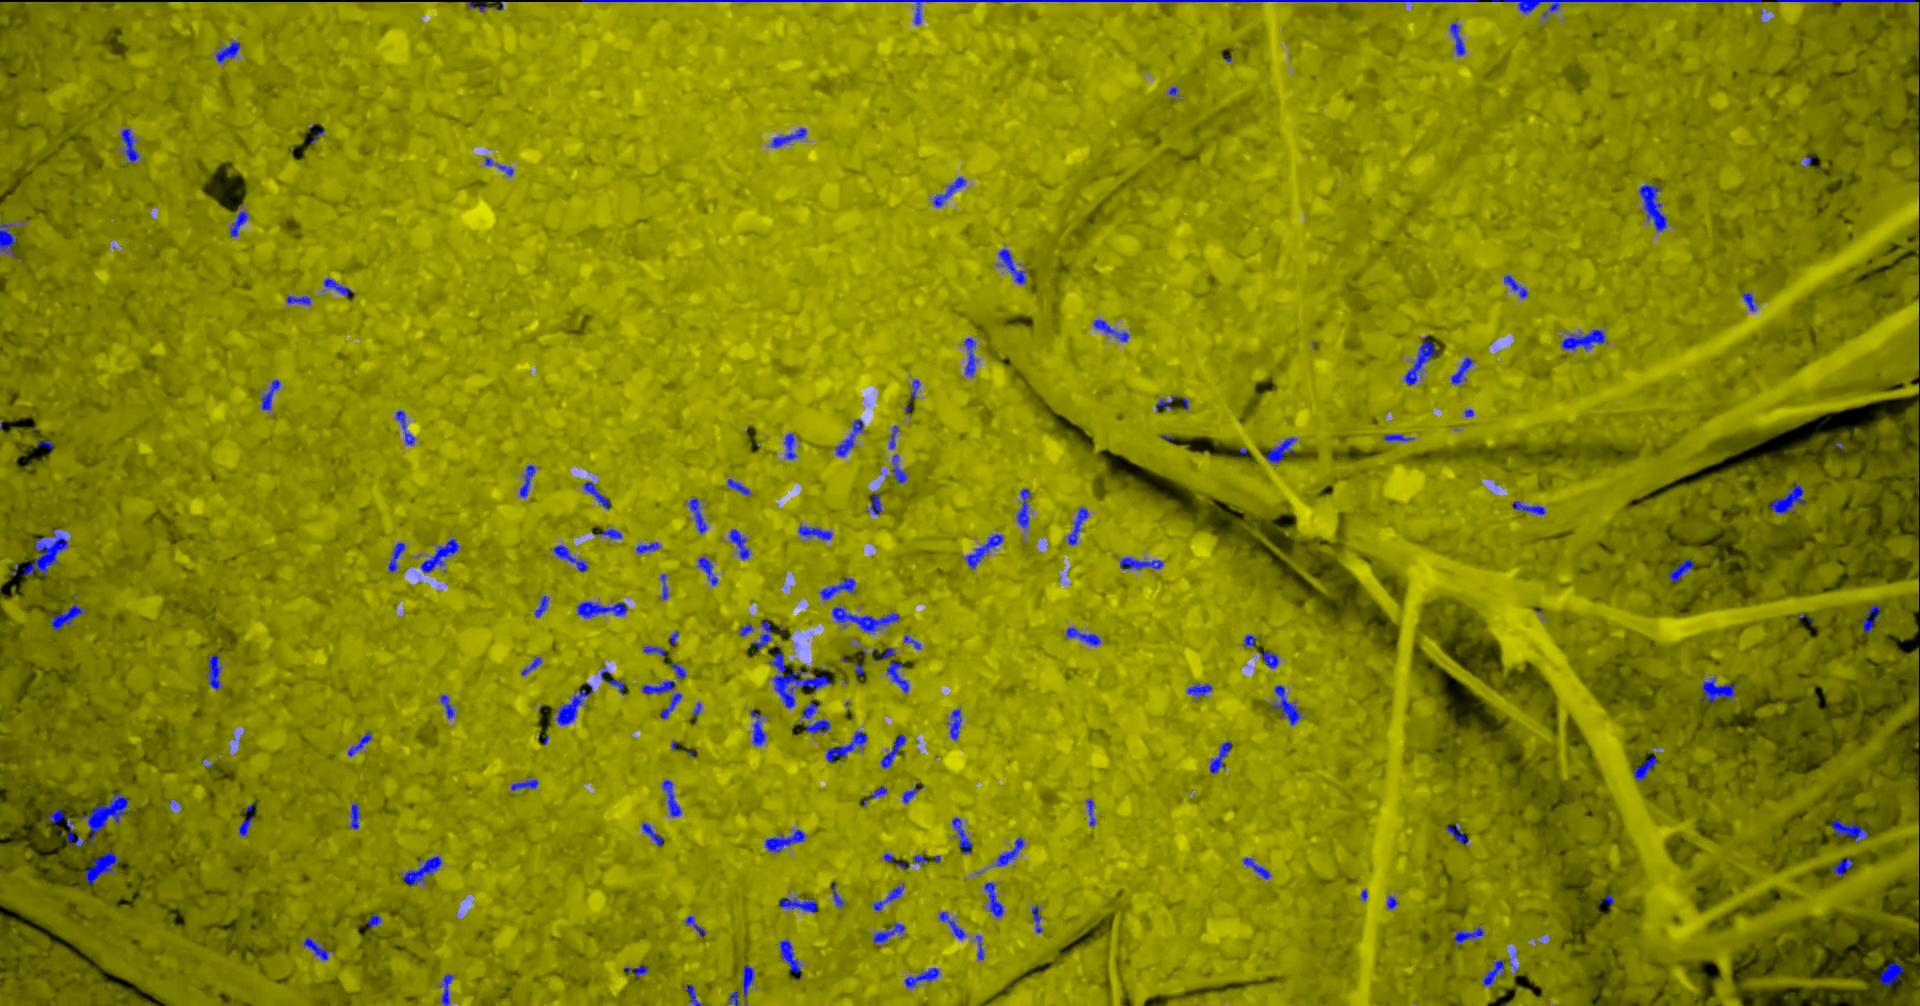ant: (1490, 0, 1763, 18), (22, 528, 69, 575), (830, 606, 899, 633), (1403, 334, 1439, 385), (555, 682, 592, 725), (641, 680, 681, 718), (879, 647, 908, 694), (964, 533, 1003, 568), (1638, 183, 1666, 231), (1270, 683, 1302, 725), (825, 730, 866, 762), (420, 539, 458, 572), (996, 248, 1029, 285), (403, 855, 441, 885), (834, 418, 863, 456), (50, 598, 84, 630), (84, 851, 118, 883), (1769, 483, 1804, 513), (728, 964, 753, 1005), (1559, 329, 1606, 351), (932, 177, 965, 207), (552, 544, 587, 572), (778, 939, 801, 979), (1263, 436, 1297, 464), (994, 836, 1023, 866), (577, 601, 626, 619), (764, 829, 805, 851), (880, 734, 905, 768), (872, 883, 903, 911), (1092, 318, 1129, 340), (1702, 676, 1735, 701), (1067, 507, 1088, 545), (1830, 819, 1868, 841), (819, 577, 855, 600), (938, 911, 966, 939), (1632, 751, 1657, 781), (770, 127, 806, 147), (951, 817, 971, 854), (904, 967, 938, 988), (983, 882, 1003, 917), (1209, 741, 1230, 774), (583, 481, 610, 508), (662, 779, 681, 815), (395, 409, 414, 445), (728, 528, 749, 559), (688, 497, 706, 533), (1065, 626, 1100, 645), (872, 922, 904, 942), (1242, 857, 1271, 879), (119, 128, 138, 161), (1453, 926, 1483, 946), (347, 730, 371, 756), (1450, 357, 1473, 384), (260, 379, 279, 410), (1482, 959, 1503, 987), (484, 156, 513, 177), (697, 556, 717, 586), (1449, 20, 1465, 56), (1503, 274, 1528, 298), (752, 619, 771, 649), (778, 897, 817, 912), (303, 937, 330, 959), (1016, 488, 1030, 528), (1119, 556, 1163, 569), (750, 709, 766, 746), (215, 41, 239, 64), (1669, 558, 1693, 580), (1879, 962, 1903, 984), (323, 278, 353, 296), (963, 337, 977, 375), (1862, 605, 1881, 633), (206, 654, 221, 688), (387, 542, 405, 572), (229, 210, 248, 236), (519, 464, 535, 497), (797, 525, 830, 540), (1445, 823, 1468, 845), (641, 822, 662, 846), (0, 224, 15, 255), (439, 973, 455, 1005), (1511, 500, 1545, 514), (891, 453, 907, 483), (797, 702, 818, 724), (902, 782, 923, 803), (726, 478, 750, 495), (466, 0, 503, 11), (949, 708, 961, 741), (1831, 856, 1851, 876), (684, 915, 705, 935), (521, 655, 541, 674), (1186, 683, 1211, 699), (683, 984, 702, 1005), (804, 719, 830, 733), (439, 694, 455, 718), (1257, 650, 1277, 668), (1777, 0, 1916, 3), (830, 882, 844, 907), (590, 527, 621, 539), (783, 433, 796, 459), (867, 492, 881, 514), (535, 594, 549, 617), (510, 779, 538, 790), (1031, 904, 1043, 932), (237, 815, 253, 836), (635, 541, 660, 553), (1742, 291, 1756, 311), (623, 965, 648, 977), (903, 634, 921, 649), (349, 801, 359, 828), (888, 426, 899, 448), (670, 662, 686, 678), (608, 678, 625, 694), (659, 573, 668, 600), (1086, 799, 1095, 826), (1383, 433, 1413, 441), (643, 645, 665, 655), (284, 295, 310, 304), (975, 934, 984, 959), (1156, 398, 1172, 410), (909, 379, 919, 399), (870, 786, 888, 798), (738, 622, 752, 636), (366, 913, 380, 926), (1385, 895, 1397, 909), (1243, 634, 1255, 647)
